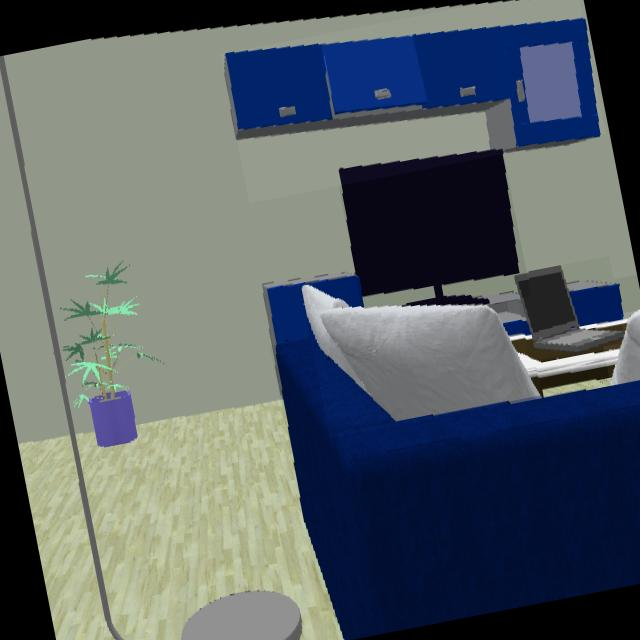cabinet: (225, 18, 602, 149)
laptop: (514, 265, 625, 353)
monitor: (340, 149, 520, 306)
pillow: (303, 286, 542, 423), (611, 310, 640, 386)
sofa: (276, 337, 640, 640)
